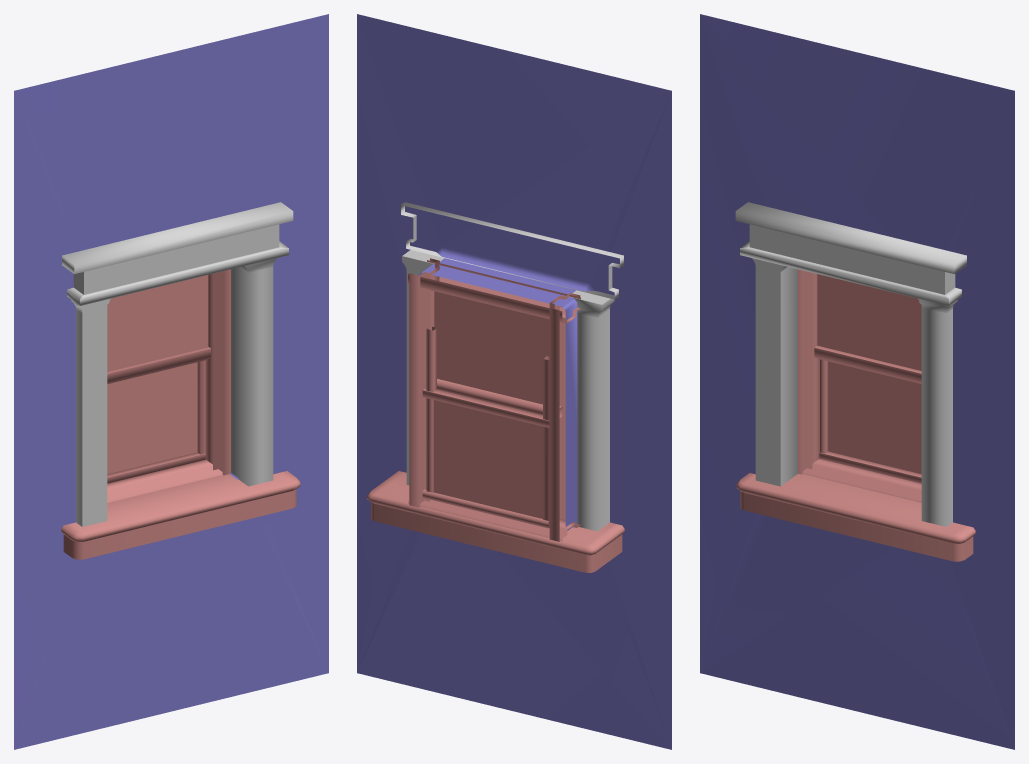
File: window_05_small.fbx
3 views of the same model, side by side, from view 1: azimuth 30°, elevation 25°; view 2: azimuth 150°, elevation 25°; view 3: azimuth 330°, elevation 25° (orthographic).
Visible parts, largest first — view 1: Plane.035, Plane.034, Cube.031; view 2: Plane.035, Plane.034, Cube.031; view 3: Plane.035, Plane.034, Cube.031.
Boxes of the visible parts, box(x1,y1,x2,y2) form: Plane.035: box(14, 14, 328, 749); Plane.034: box(61, 269, 300, 559); Cube.031: box(62, 202, 293, 526); Plane.035: box(357, 14, 671, 749); Plane.034: box(367, 258, 624, 572); Cube.031: box(401, 202, 623, 531); Plane.035: box(700, 14, 1014, 749); Plane.034: box(736, 269, 975, 561); Cube.031: box(735, 202, 966, 526).
Size of the model in its own units: 2 by 4 by 0.5096.
